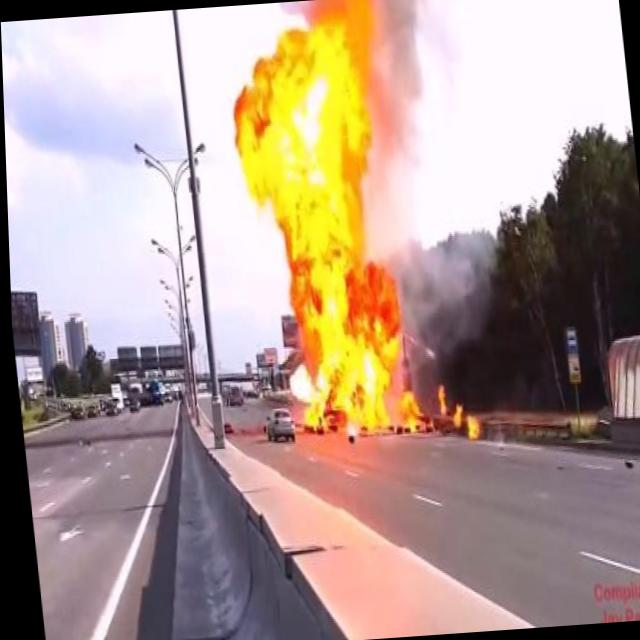fire: (217, 11, 437, 447), (433, 382, 448, 418), (462, 408, 478, 440), (447, 399, 461, 430)
